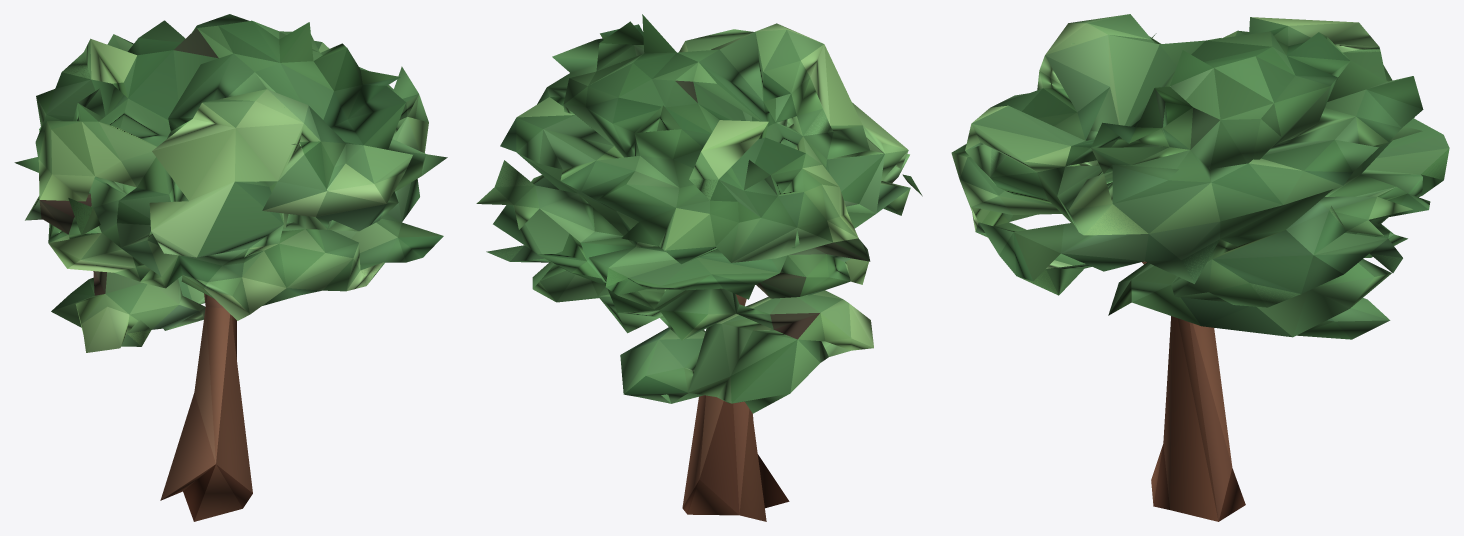
The model's file is arbol_lod1.obj.
3 views of the same model, side by side, from view 1: azimuth 30°, elevation 25°; view 2: azimuth 150°, elevation 25°; view 3: azimuth 270°, elevation 25° (orthographic). The views are drawn at different scales.
Parts seen in each view (by area): view 1: arbol; view 2: arbol; view 3: arbol.
Part boxes in pixels (x1,y1,x2,y2): arbol: (14,14,447,521); arbol: (476,14,922,521); arbol: (951,14,1449,521).
Bounding box in the file's own units: 2.08 × 2.47 × 2.22.
